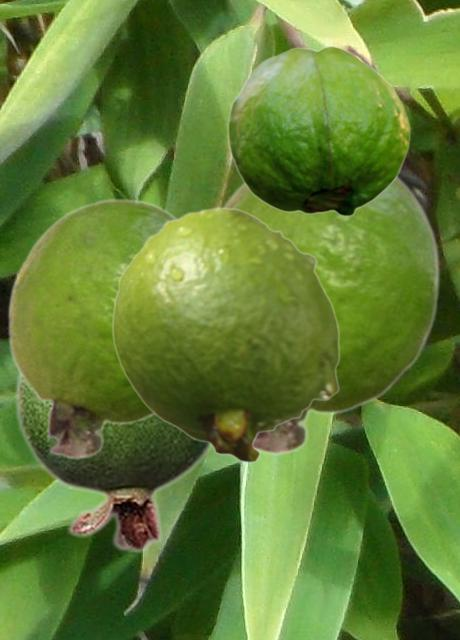guava: (221, 176, 440, 455), (111, 206, 339, 462), (7, 197, 176, 459), (14, 370, 212, 553), (227, 45, 409, 216)
